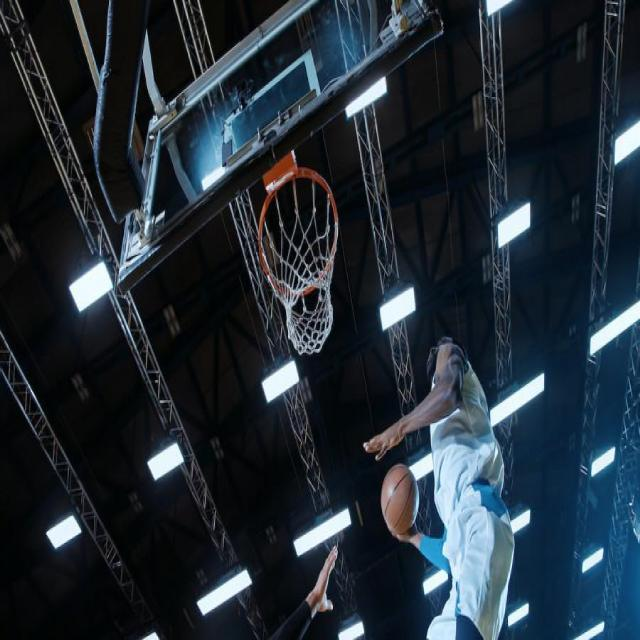Basketball: (381, 464, 419, 534)
hoop: (258, 168, 338, 356)
